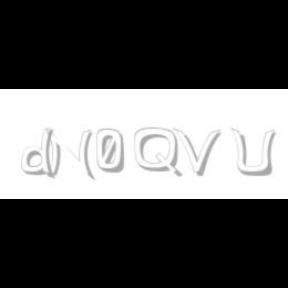0: (96, 128, 128, 174)
N: (44, 128, 94, 180)
Q: (134, 128, 180, 178)
U: (230, 128, 276, 178)
V: (173, 128, 221, 176)
d: (22, 128, 58, 180)
